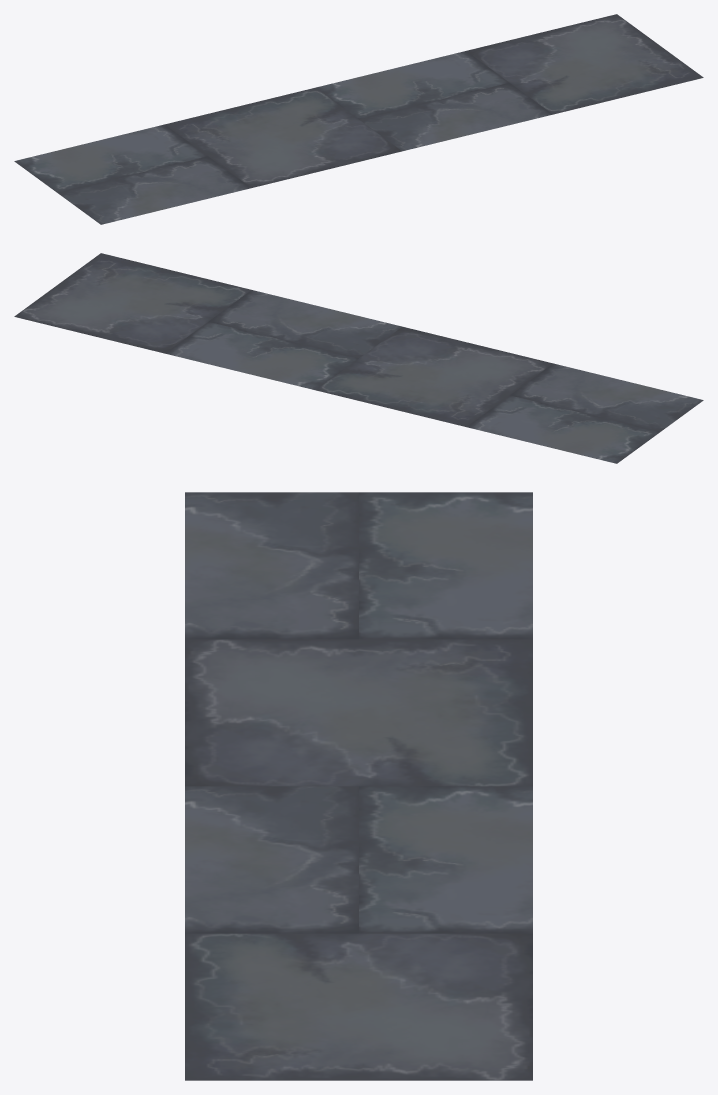
Rendered from Castle Ground X Dark 4x1.fbx.
3 renders of one model, top to bottom at view 1: azimuth 30°, elevation 25°; view 2: azimuth 150°, elevation 25°; view 3: azimuth 270°, elevation 25°, orthographic. The views are drawn at different scales.
Parts seen in each view (by area): view 1: Castle Ground X Dark 4x1; view 2: Castle Ground X Dark 4x1; view 3: Castle Ground X Dark 4x1.
Boxes of the visible parts, <box> form: Castle Ground X Dark 4x1: <box>14,14,703,224</box>; Castle Ground X Dark 4x1: <box>14,253,703,463</box>; Castle Ground X Dark 4x1: <box>185,492,532,1080</box>.
Size of the model in its own units: 3 by 2.34e-07 by 0.75.
